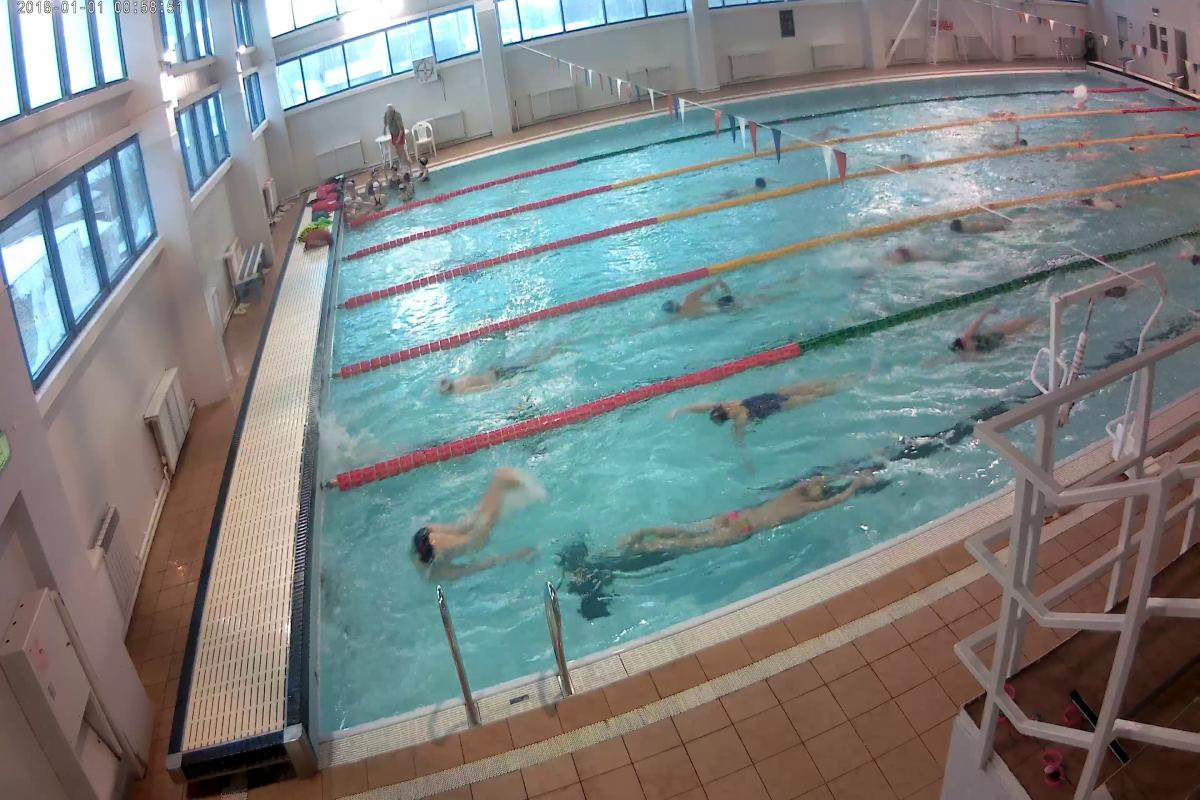swimmer: (646, 481, 840, 554), (421, 492, 531, 572), (688, 373, 860, 421), (438, 354, 549, 399), (653, 286, 791, 317), (881, 241, 971, 278), (963, 311, 1028, 358), (949, 209, 1042, 235), (1078, 196, 1126, 216)
